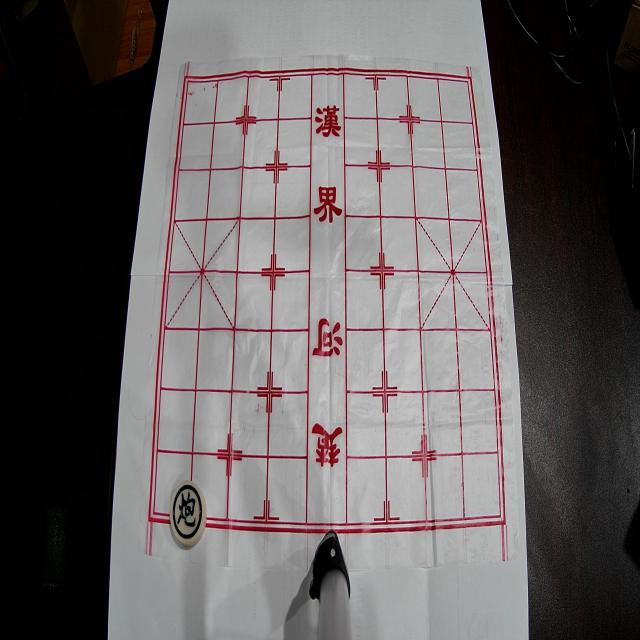black-cannon: (170, 480, 207, 546)
